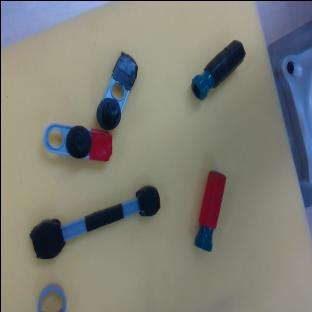part_1_bad: (91, 49, 142, 132)
part_1_good: (40, 117, 115, 164)
part_2_bad: (185, 35, 251, 101)
part_2_good: (192, 169, 227, 251)
part_3_bad: (24, 174, 165, 262)
part_3_good: (38, 284, 65, 311)
